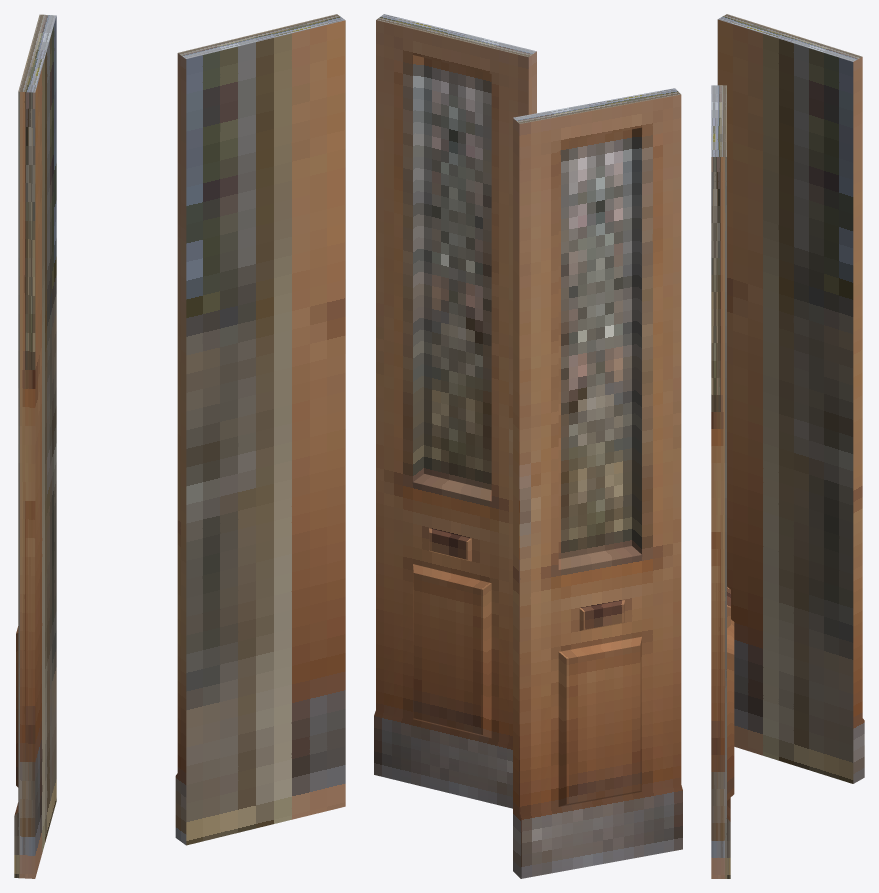
Rendered from GJ_Door_02.fbx.
3 renders of one model, left to right at view 1: azimuth 30°, elevation 25°; view 2: azimuth 150°, elevation 25°; view 3: azimuth 270°, elevation 25°, orthographic. The views are drawn at different scales.
Parts seen in each view (by area): view 1: GJ_Door_02; view 2: GJ_Door_02; view 3: GJ_Door_02.
Part boxes in pixels (x1,y1,x2,y2): GJ_Door_02: (14, 14, 345, 878); GJ_Door_02: (374, 14, 682, 878); GJ_Door_02: (711, 14, 864, 878).
Bounding box in the file's own units: 88.23 × 206 × 39.71.
